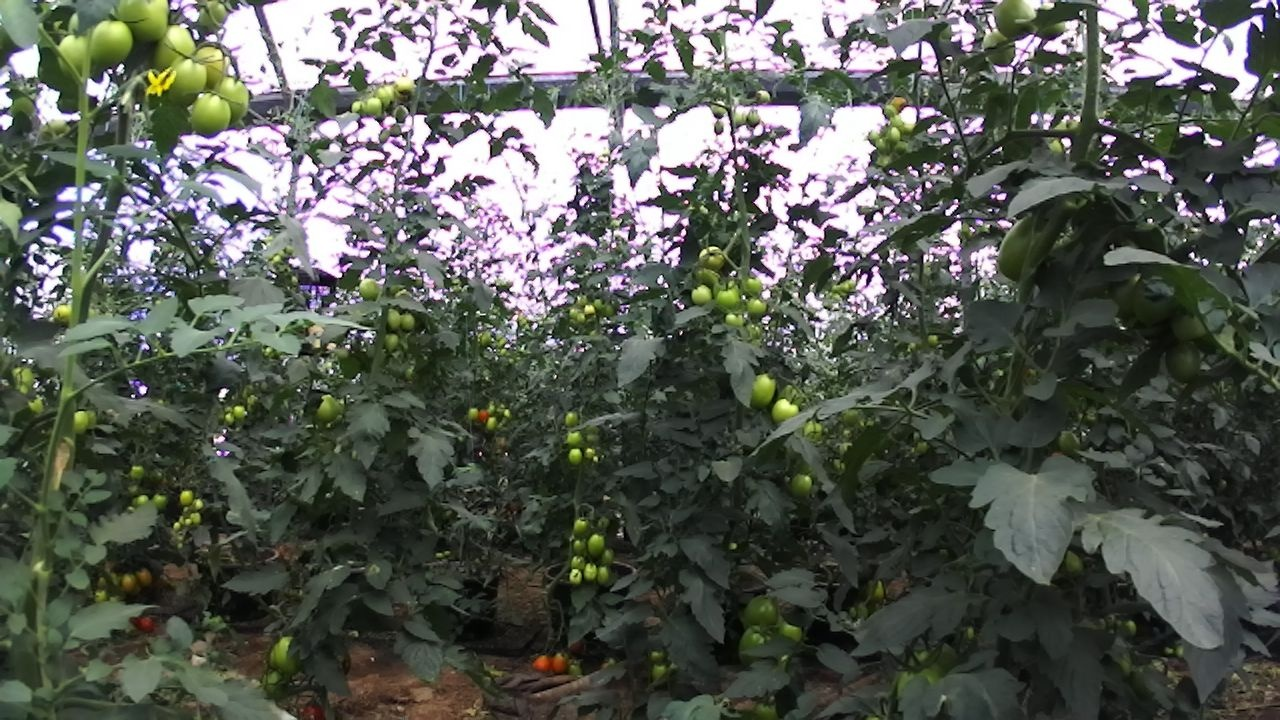tomato: (993, 213, 1054, 285), (143, 15, 206, 82), (81, 13, 138, 78), (111, 0, 180, 50), (158, 52, 215, 112), (44, 27, 102, 84), (185, 86, 236, 143), (205, 69, 257, 124), (1160, 337, 1211, 389), (977, 26, 1025, 73), (986, 0, 1041, 40), (741, 366, 786, 414), (735, 621, 778, 668), (269, 631, 310, 677), (742, 590, 782, 633), (765, 393, 806, 432), (312, 391, 345, 426), (785, 467, 818, 501), (695, 241, 730, 272), (684, 280, 717, 311), (737, 266, 766, 299), (355, 276, 383, 303), (68, 408, 94, 437), (371, 82, 397, 111), (50, 299, 76, 326), (586, 529, 608, 560), (744, 294, 770, 320), (530, 649, 555, 675), (560, 407, 584, 434), (714, 286, 740, 310), (359, 93, 383, 119), (551, 647, 571, 677), (571, 514, 593, 540), (133, 566, 157, 589), (564, 444, 587, 467), (118, 571, 140, 594), (385, 306, 404, 332), (563, 429, 585, 451), (382, 331, 404, 353), (397, 310, 418, 333), (393, 73, 416, 94), (151, 489, 172, 511), (347, 96, 367, 118), (745, 107, 764, 130), (176, 487, 197, 507), (568, 537, 590, 556), (723, 311, 745, 330), (594, 564, 611, 588), (599, 545, 617, 567), (884, 124, 903, 144), (582, 561, 598, 584), (567, 566, 584, 587), (752, 87, 773, 104), (129, 462, 147, 481), (569, 553, 587, 572), (484, 415, 501, 433), (232, 403, 247, 420), (476, 407, 490, 424), (582, 302, 597, 317), (189, 510, 202, 525), (190, 496, 204, 509), (467, 406, 479, 421)
